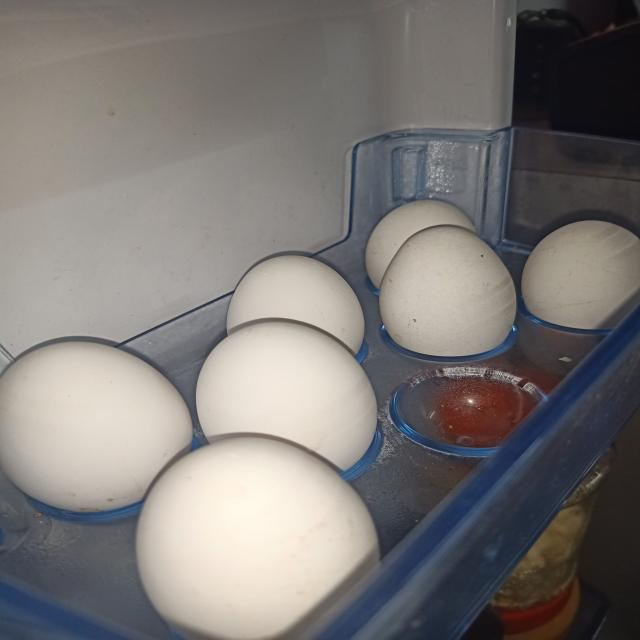Egg: (135, 437, 378, 640), (0, 342, 191, 513), (196, 322, 377, 471), (379, 225, 517, 357), (226, 256, 364, 355), (522, 220, 640, 329), (365, 200, 476, 288)
